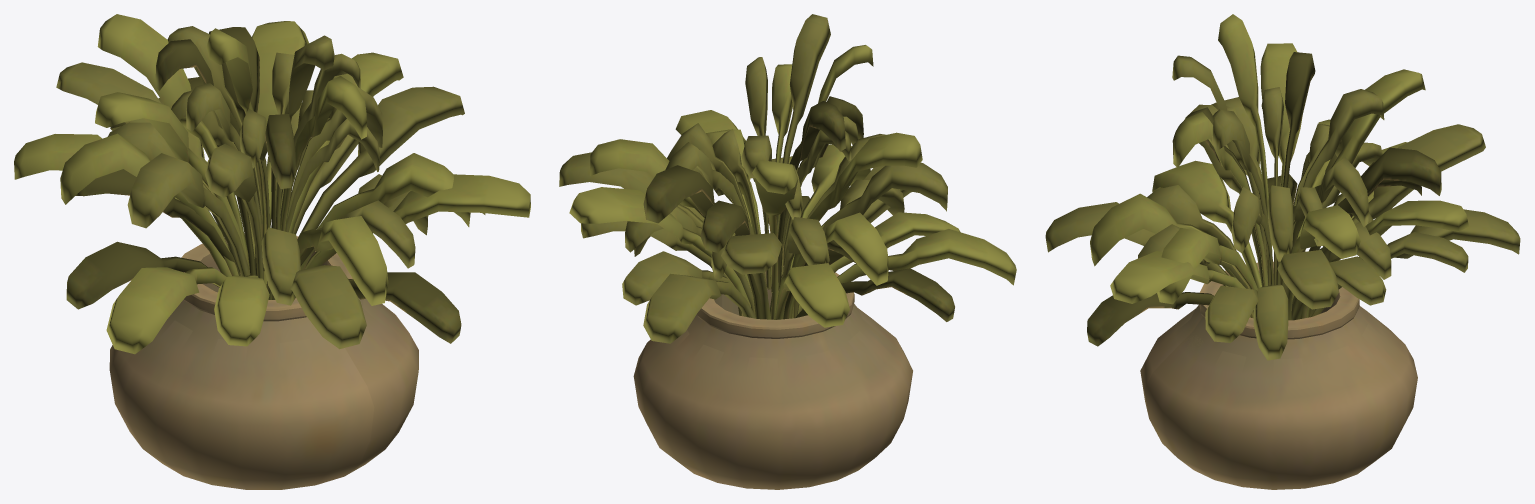
The model's file is MansionPlantPot.fbx.
3 views of the same model, side by side, from view 1: azimuth 30°, elevation 25°; view 2: azimuth 150°, elevation 25°; view 3: azimuth 270°, elevation 25° (orthographic). The views are drawn at different scales.
Visible parts, largest first — view 1: plant, plantPot-Merged; view 2: plant, plantPot-Merged; view 3: plant, plantPot-Merged.
Part boxes in pixels (x1,y1,x2,y2): plant: (14, 14, 530, 354); plantPot-Merged: (109, 234, 418, 489); plant: (559, 14, 1016, 343); plantPot-Merged: (633, 266, 912, 489); plant: (1045, 14, 1520, 360); plantPot-Merged: (1140, 261, 1417, 489).
Size of the model in its own units: 4.59 by 4.68 by 4.98.
